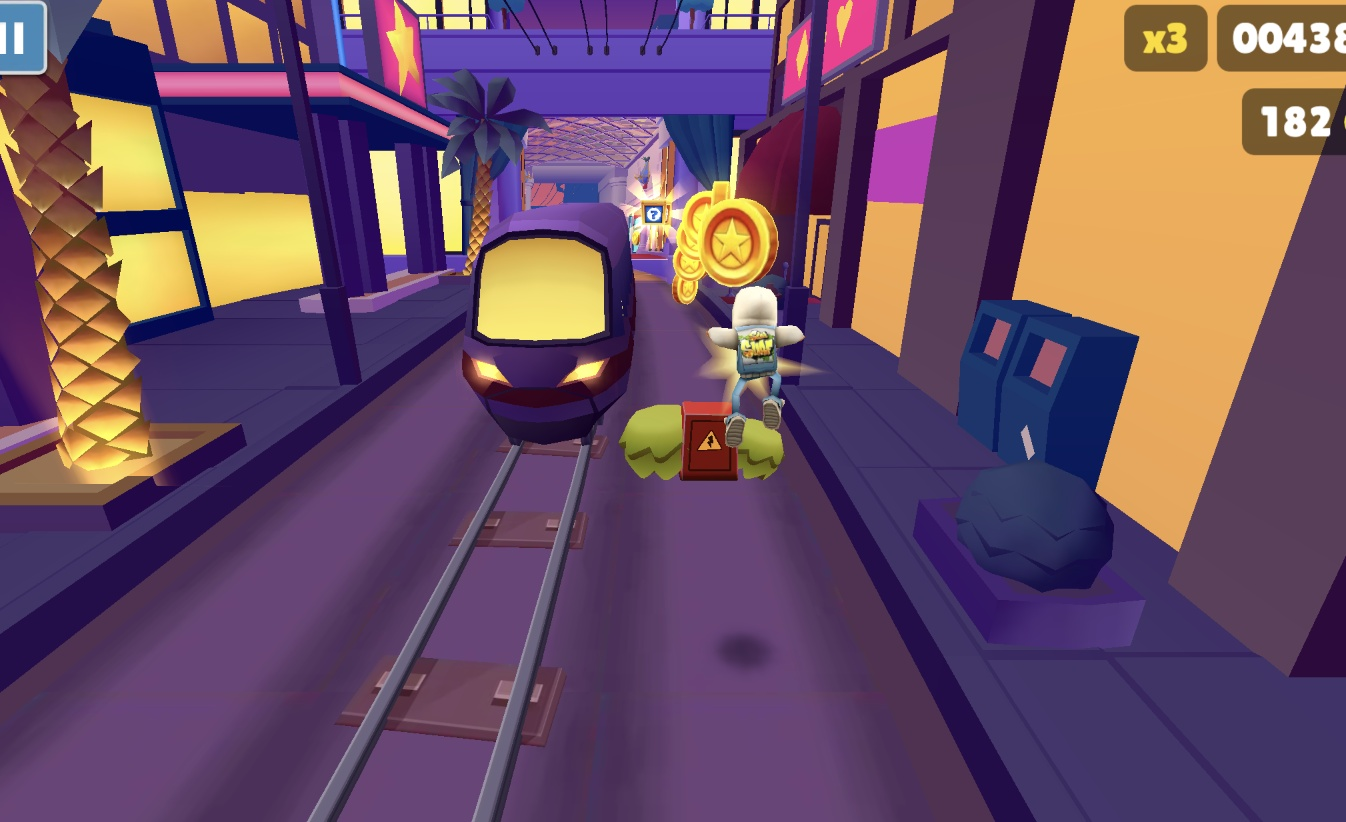bush: (618, 403, 786, 481)
small_obstacle: (681, 402, 739, 481)
train: (458, 202, 637, 447)
